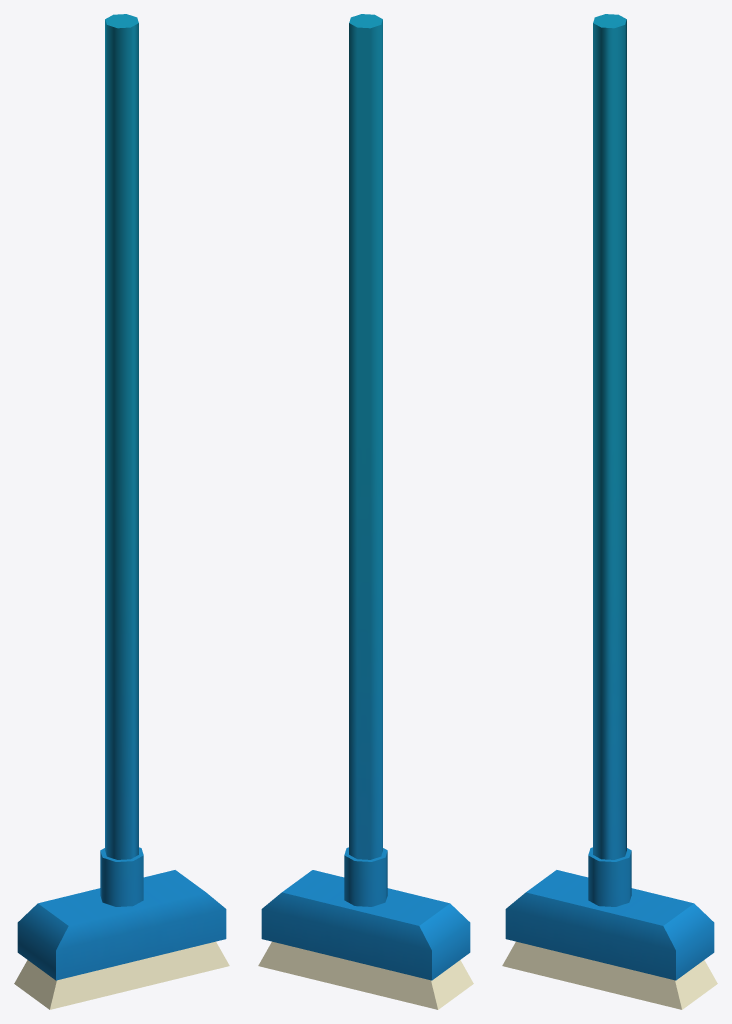
Rendered from SM_Trash_Broom_1_04.fbx.
3 renders of one model, left to right at view 1: azimuth 30°, elevation 25°; view 2: azimuth 150°, elevation 25°; view 3: azimuth 330°, elevation 25°, orthographic.
Parts seen in each view (by area): view 1: SM_Trash_Broom_1_04; view 2: SM_Trash_Broom_1_04; view 3: SM_Trash_Broom_1_04.
Part boxes in pixels (x1,y1,x2,y2): SM_Trash_Broom_1_04: (14, 14, 229, 1009); SM_Trash_Broom_1_04: (258, 14, 473, 1009); SM_Trash_Broom_1_04: (502, 14, 717, 1009).
Bounding box in the file's own units: 28.35 × 143 × 10.43.
